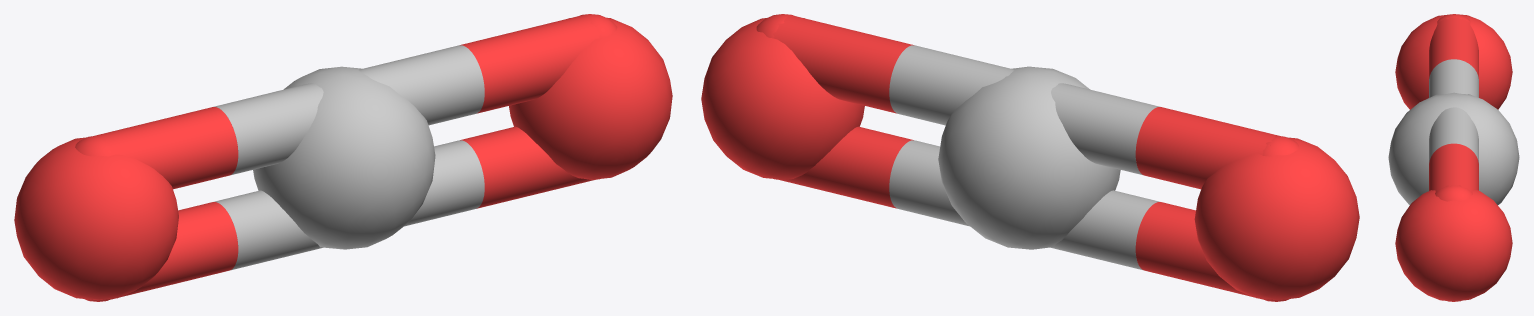
3 views of the same model, side by side, from view 1: azimuth 30°, elevation 25°; view 2: azimuth 150°, elevation 25°; view 3: azimuth 270°, elevation 25° (orthographic). The views are drawn at different scales.
Visible parts, largest first — view 1: CO2; view 2: CO2; view 3: CO2.
Boxes of the visible parts, x1,y1,x2,y2 form: CO2: (14,14,672,301); CO2: (701,14,1359,301); CO2: (1388,14,1519,301).
Size of the model in its own units: 3.12 by 0.782 by 0.782.
